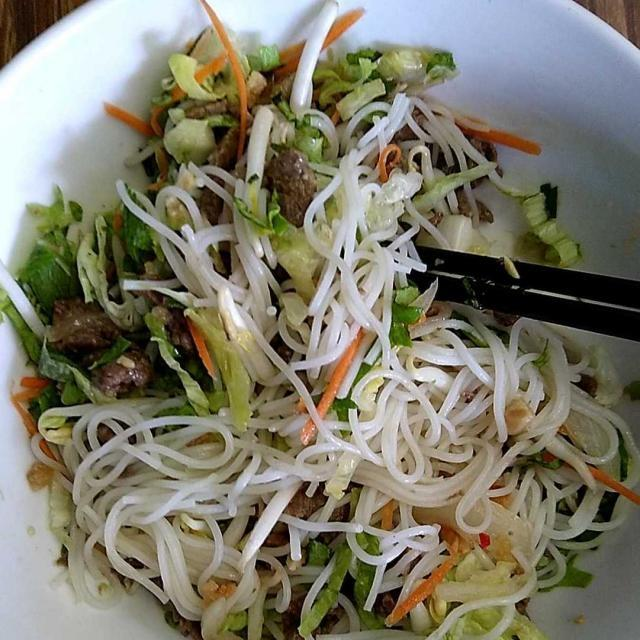noodles: (58, 110, 623, 629)
salad: (0, 28, 640, 638)
